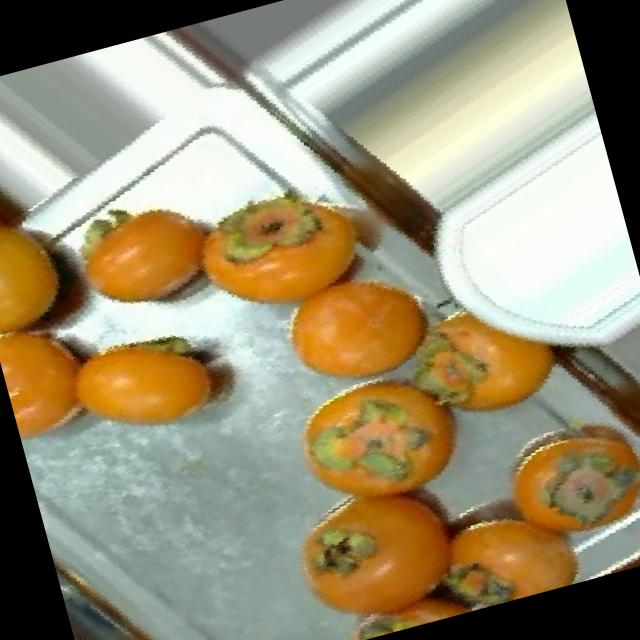Fruit: (267, 341, 503, 531), (248, 234, 466, 420), (384, 264, 593, 454)
